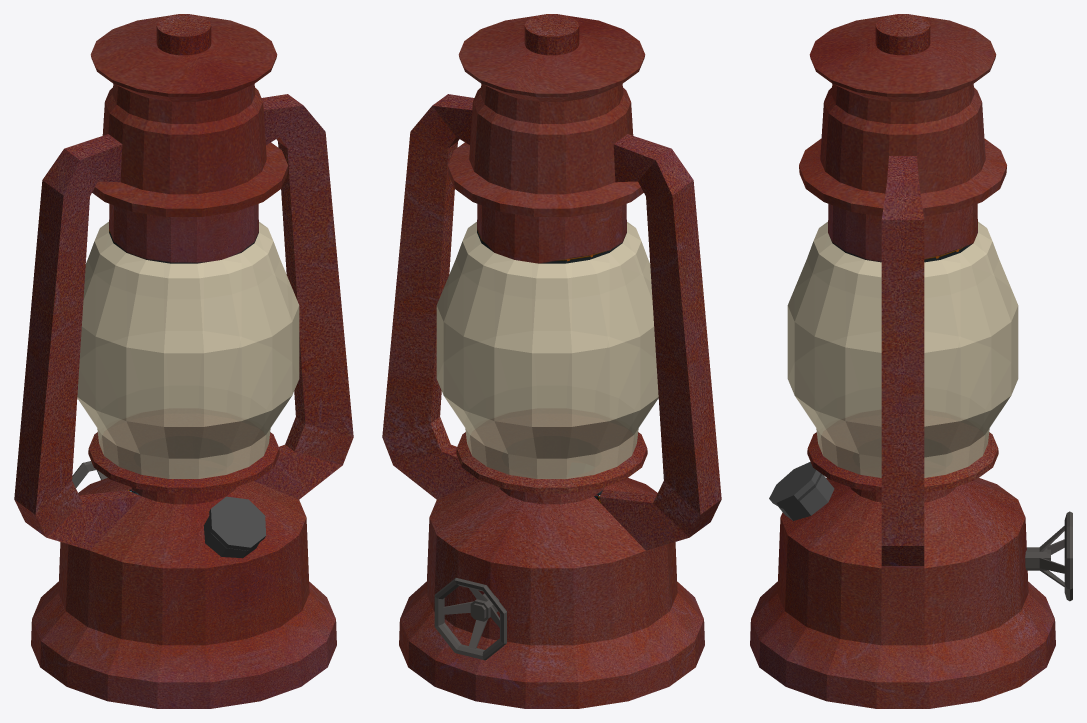
Rendered from farolete.fbx.
3 renders of one model, left to right at view 1: azimuth 30°, elevation 25°; view 2: azimuth 150°, elevation 25°; view 3: azimuth 270°, elevation 25°, orthographic.
Visible parts, largest first — view 1: Cylinder, Cylinder.001; view 2: Cylinder, MANECILLA; view 3: Cylinder, Cylinder.001, MANECILLA.
Part boxes in pixels (bbox=[...]): Cylinder: bbox=[14, 14, 353, 708]; Cylinder.001: bbox=[203, 496, 266, 558]; Cylinder: bbox=[382, 14, 721, 708]; MANECILLA: bbox=[434, 578, 506, 660]; Cylinder: bbox=[750, 14, 1055, 708]; Cylinder.001: bbox=[769, 462, 834, 520]; MANECILLA: bbox=[1025, 511, 1072, 601].
Size of the model in its own units: 174 by 323 by 153.
